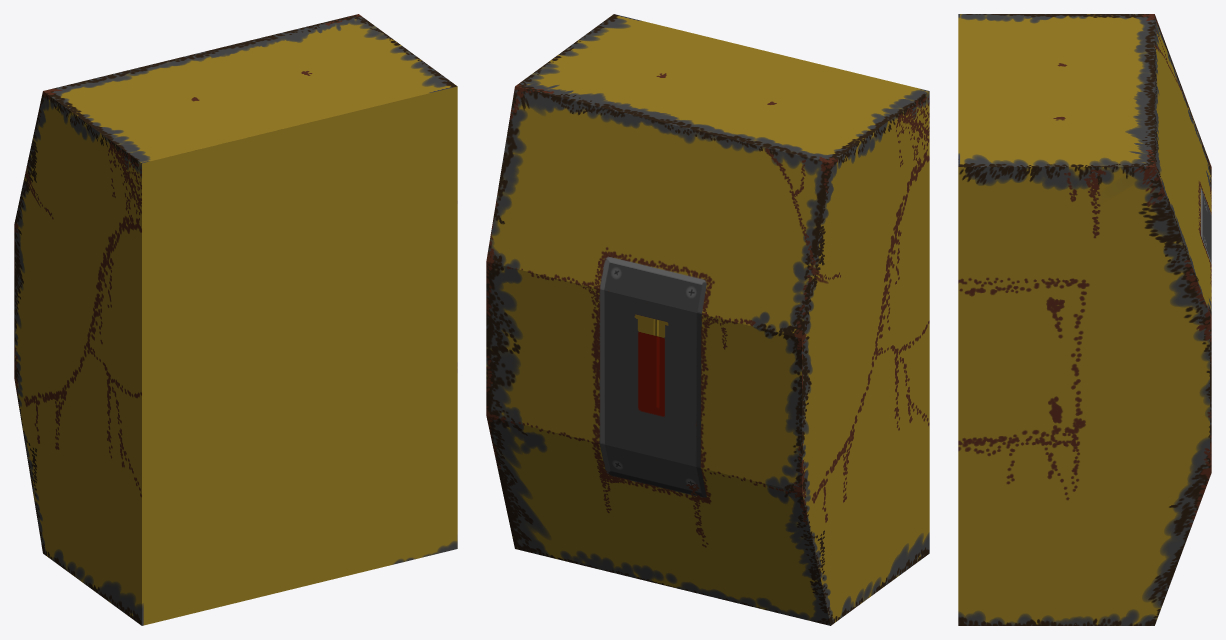
Rendered from AmmoBox.fbx.
3 renders of one model, left to right at view 1: azimuth 30°, elevation 25°; view 2: azimuth 150°, elevation 25°; view 3: azimuth 270°, elevation 25°, orthographic.
Parts seen in each view (by area): view 1: Cube.033; view 2: Cube.033; view 3: Cube.033.
Part boxes in pixels (x1,y1,x2,y2): Cube.033: (14,14,457,625); Cube.033: (486,14,929,625); Cube.033: (958,14,1211,625).
Bounding box in the file's own units: 143 × 200 × 100.
